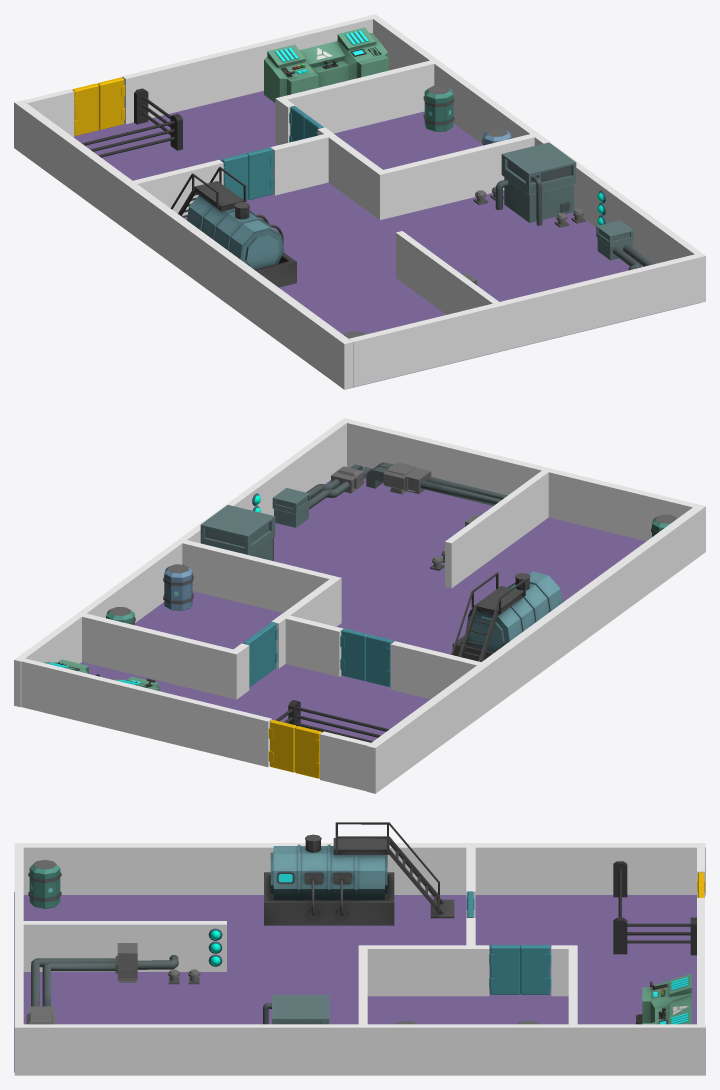
File: maps_32.fbx
The picture shows the model from 3 angles, top to bottom: view 1: azimuth 30°, elevation 25°; view 2: azimuth 150°, elevation 25°; view 3: azimuth 270°, elevation 25°; orthographic projection. The views are drawn at different scales.
Visible parts, largest first — view 1: wall_01_08_geo, wall_01_07_geo, wall_01_05_geo, wall_01_06_geo, wall_01_10_geo, wall_01_03_geo3, tankwater_geo, wall_01_03_geo4, table_01_geo, generatorStation_05_geo, wall_01_11_geo, wall_01_04_geo (+9 smaller); view 2: wall_01_08_geo, wall_01_07_geo, wall_01_05_geo, wall_01_10_geo, wall_01_06_geo, wall_01_03_geo3, wall_01_03_geo4, tankwater_geo, wall_01_11_geo, wall_01_03_geo2, generatorStation_05_geo, wall_01_03_geo5 (+12 smaller); view 3: wall_01_08_geo, wall_01_06_geo, wall_01_07_geo, tankwater_geo, wall_01_11_geo, wall_01_04_geo, generatorStation_03_geo, table_01_geo, generatorStation_05_geo, wall_01_05_geo, polySurface177, polySurface174 (+9 smaller).
Part boxes in pixels (x1=…): wall_01_08_geo: x1=73, y1=91, x2=701, y2=388; wall_01_07_geo: x1=14, y1=100, x2=352, y2=389; wall_01_05_geo: x1=349, y1=254, x2=699, y2=387; wall_01_06_geo: x1=369, y1=14, x2=705, y2=303; wall_01_10_geo: x1=122, y1=16, x2=372, y2=124; wall_01_03_geo3: x1=275, y1=60, x2=434, y2=145; tankwater_geo: x1=170, y1=166, x2=296, y2=287; wall_01_03_geo4: x1=383, y1=134, x2=534, y2=218; table_01_geo: x1=264, y1=27, x2=388, y2=102; generatorStation_05_geo: x1=495, y1=142, x2=576, y2=225; wall_01_11_geo: x1=396, y1=231, x2=498, y2=314; wall_01_04_geo: x1=328, y1=135, x2=387, y2=219; wall_01_08_geo: x1=80, y1=478, x2=645, y2=740; wall_01_07_geo: x1=367, y1=504, x2=705, y2=793; wall_01_05_geo: x1=347, y1=419, x2=696, y2=541; wall_01_10_geo: x1=21, y1=658, x2=271, y2=767; wall_01_06_geo: x1=14, y1=418, x2=350, y2=707; wall_01_03_geo3: x1=82, y1=613, x2=240, y2=699; wall_01_03_geo4: x1=182, y1=540, x2=333, y2=612; tankwater_geo: x1=451, y1=571, x2=562, y2=661; wall_01_11_geo: x1=445, y1=470, x2=548, y2=588; wall_01_03_geo2: x1=390, y1=641, x2=480, y2=699; generatorStation_05_geo: x1=200, y1=505, x2=275, y2=561; wall_01_03_geo5: x1=278, y1=613, x2=343, y2=676; wall_01_08_geo: x1=14, y1=892, x2=696, y2=1072; wall_01_06_geo: x1=14, y1=1024, x2=705, y2=1075; wall_01_07_geo: x1=14, y1=843, x2=705, y2=895; tankwater_geo: x1=264, y1=822, x2=454, y2=925; wall_01_11_geo: x1=23, y1=921, x2=226, y2=971; wall_01_04_geo: x1=358, y1=945, x2=466, y2=996; generatorStation_03_geo: x1=26, y1=943, x2=178, y2=1024; table_01_geo: x1=636, y1=973, x2=691, y2=1024; generatorStation_05_geo: x1=263, y1=995, x2=329, y2=1024; wall_01_05_geo: x1=14, y1=847, x2=23, y2=1024; polySurface177: x1=489, y1=945, x2=520, y2=994; polySurface174: x1=520, y1=945, x2=551, y2=994.
Bounding box in the file's own units: 73.34 × 15.59 × 116.
8 materials, 8 textured.
